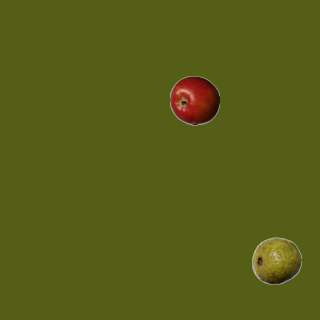Apple Braeburn: (169, 75, 219, 125)
Guava: (251, 235, 301, 285)
